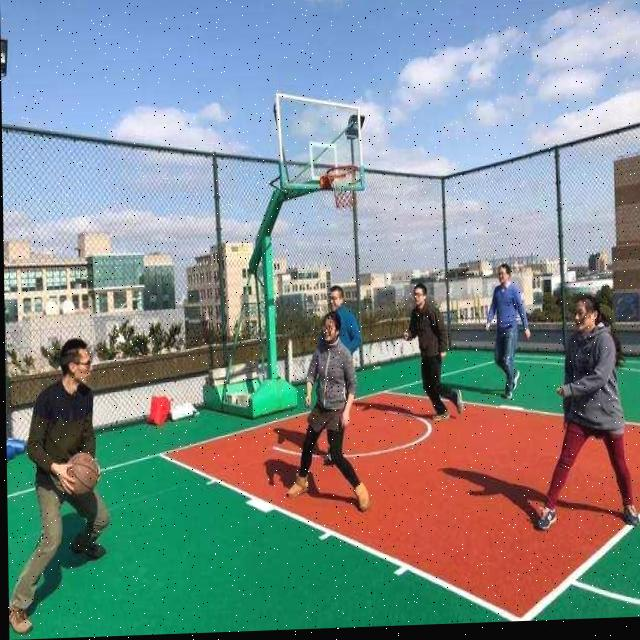basketball: (70, 451, 98, 495)
hoop: (325, 163, 360, 209)
